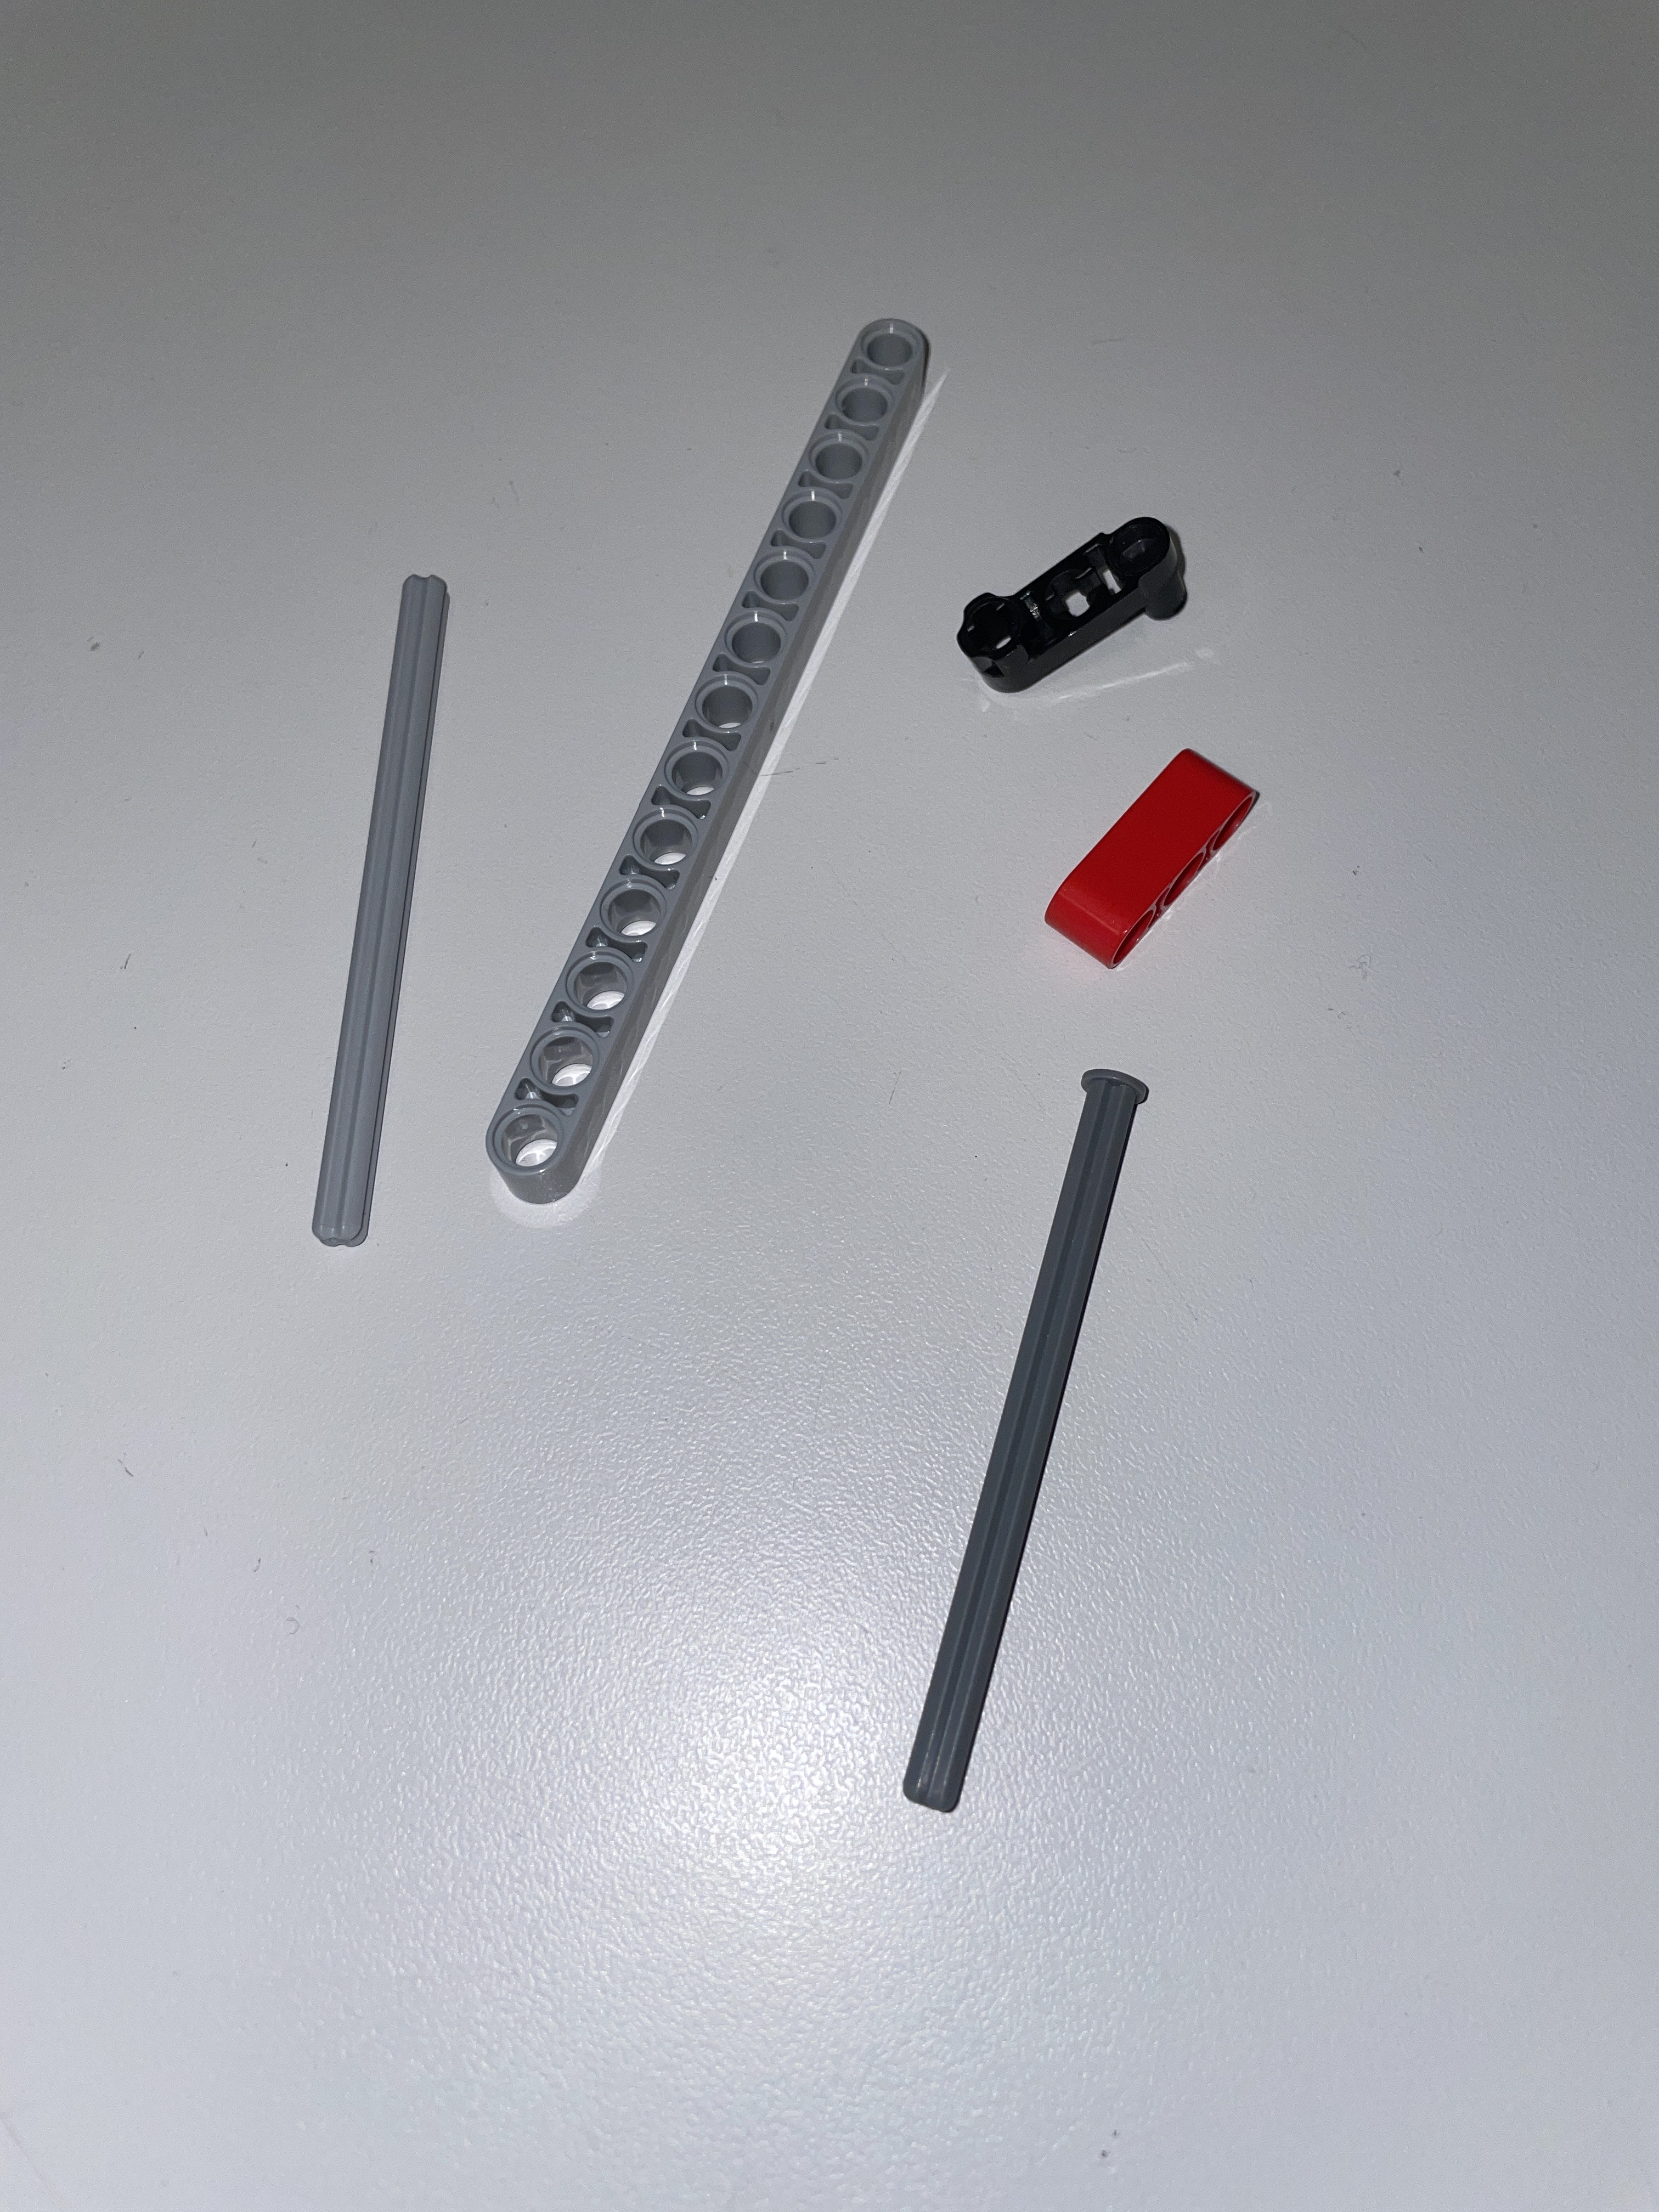13gat: (476, 307, 941, 1217)
3gat: (1039, 735, 1272, 984)
plusstaaf: (300, 564, 455, 1258)
plusstaafdicht: (897, 1059, 1152, 1820)
verbindstukzwart: (953, 509, 1206, 716)
